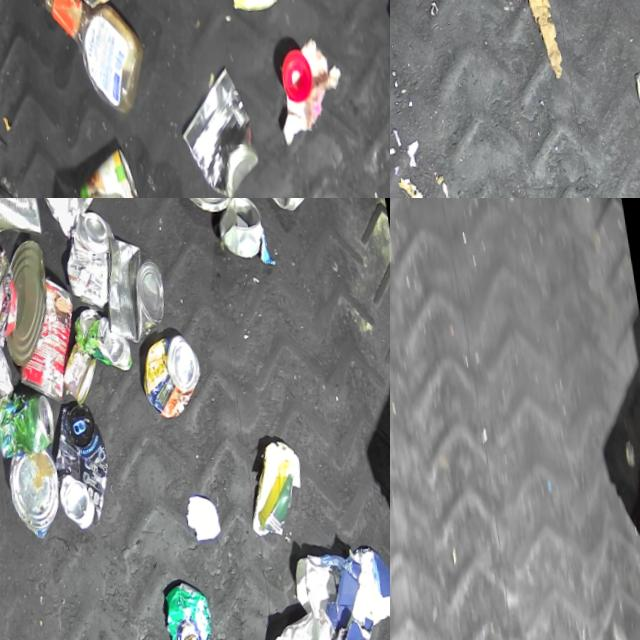can: (167, 67, 259, 198), (2, 277, 84, 411), (41, 405, 113, 537), (93, 233, 168, 353), (0, 241, 55, 370), (56, 212, 122, 319), (134, 337, 203, 429), (0, 452, 62, 547), (69, 307, 131, 384), (0, 390, 55, 464), (211, 198, 265, 267), (155, 583, 215, 640), (55, 345, 100, 410), (163, 198, 248, 226), (0, 198, 42, 249), (250, 198, 313, 223), (0, 339, 16, 436)
